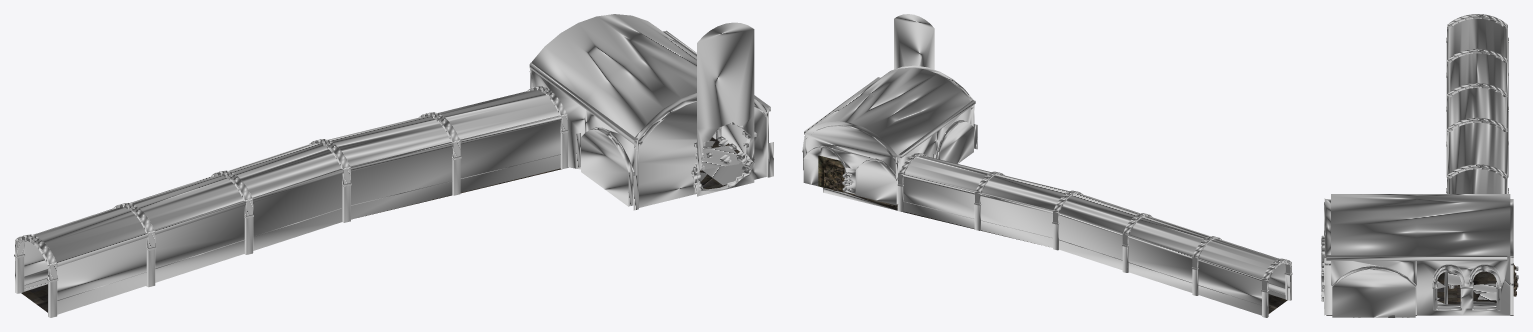
3 views of the same model, side by side, from view 1: azimuth 30°, elevation 25°; view 2: azimuth 150°, elevation 25°; view 3: azimuth 270°, elevation 25° (orthographic). The views are drawn at different scales.
Parts seen in each view (by area): view 1: mesh5, mesh0, mesh1, mesh2, mesh3, mesh6, mesh4; view 2: mesh5, mesh0, mesh1, mesh2, mesh7, mesh4; view 3: mesh5, mesh0, mesh2, mesh1, mesh4, mesh3, mesh6.
Part boxes in pixels (x1=…): mesh5: x1=24, y1=14, x2=766, y2=314; mesh0: x1=24, y1=30, x2=770, y2=300; mesh1: x1=15, y1=63, x2=773, y2=317; mesh2: x1=14, y1=86, x2=568, y2=282; mesh3: x1=698, y1=140, x2=744, y2=185; mesh6: x1=691, y1=122, x2=756, y2=190; mesh4: x1=21, y1=137, x2=739, y2=312; mesh5: x1=803, y1=14, x2=1285, y2=315; mesh0: x1=804, y1=77, x2=1285, y2=305; mesh1: x1=803, y1=65, x2=1291, y2=317; mesh2: x1=802, y1=139, x2=1292, y2=292; mesh7: x1=818, y1=155, x2=844, y2=192; mesh4: x1=845, y1=192, x2=1287, y2=313; mesh5: x1=1321, y1=18, x2=1510, y2=317; mesh0: x1=1326, y1=28, x2=1507, y2=310; mesh2: x1=1432, y1=14, x2=1508, y2=288; mesh1: x1=1324, y1=42, x2=1513, y2=315; mesh4: x1=1326, y1=271, x2=1513, y2=315; mesh3: x1=1437, y1=272, x2=1496, y2=304; mesh6: x1=1321, y1=235, x2=1518, y2=317.
Bounding box in the file's own units: 40.34 × 11.73 × 12.07.
